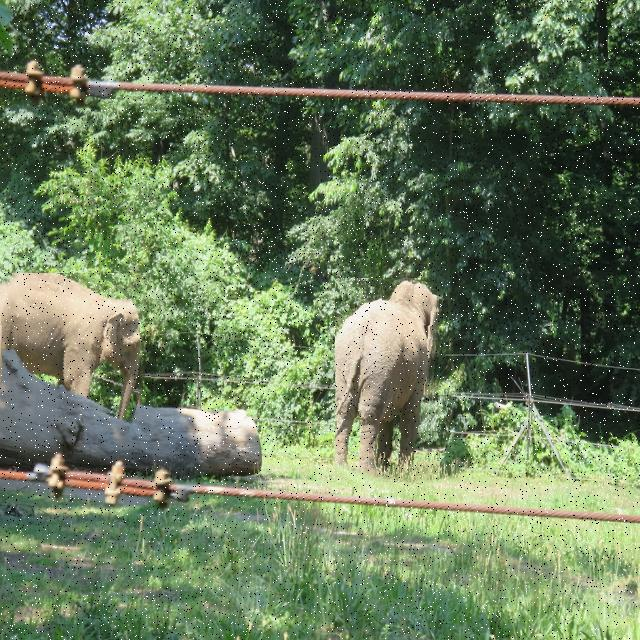elephant: (0, 273, 156, 418), (335, 278, 439, 484)
